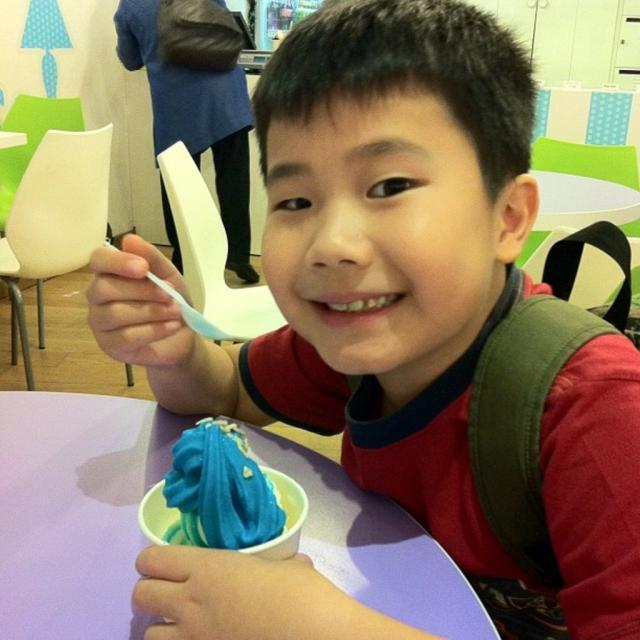Ice cream: (163, 422, 285, 546)
